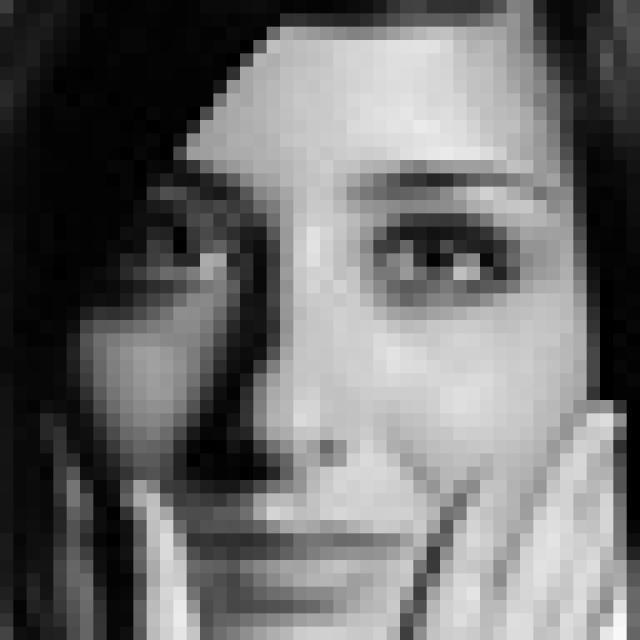fear: (100, 156, 571, 614)
